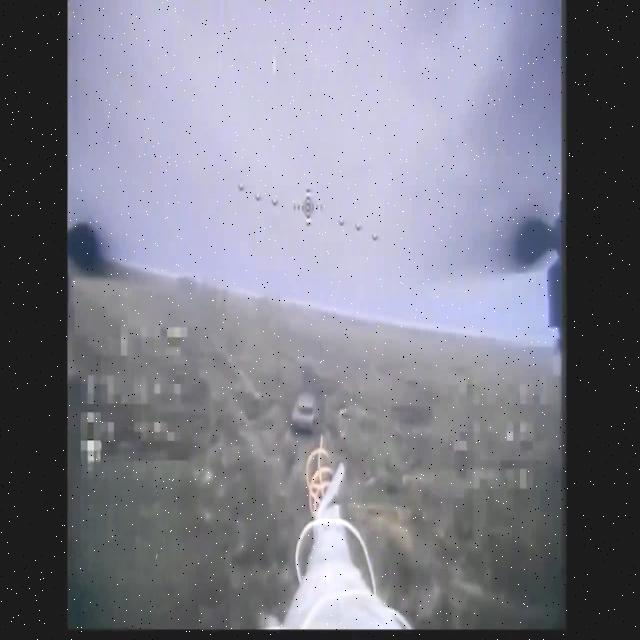MBT: (293, 392, 318, 434)
